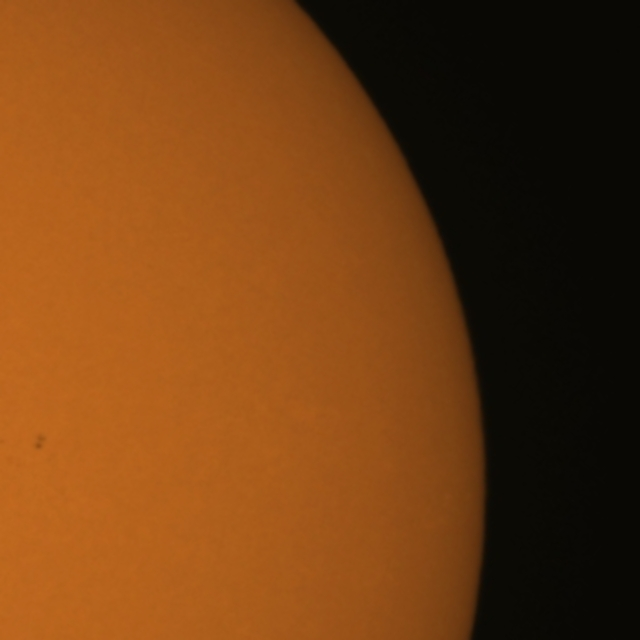sunspot: (31, 432, 48, 453)
